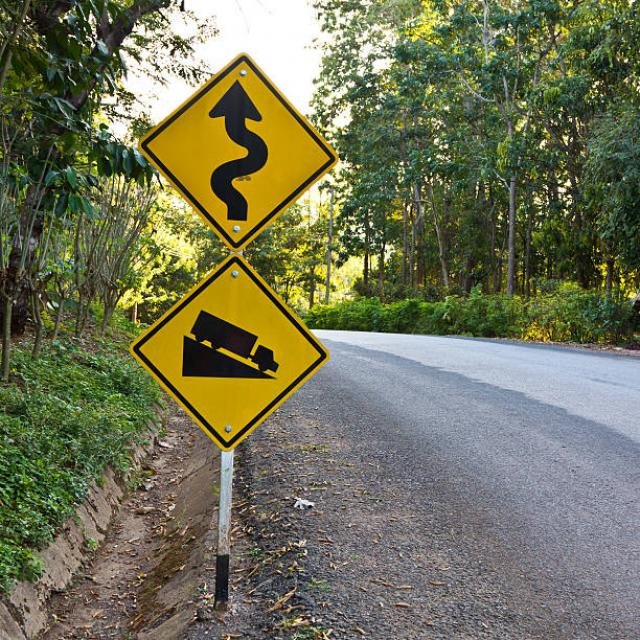left_sharp_curve: (138, 50, 340, 251)
